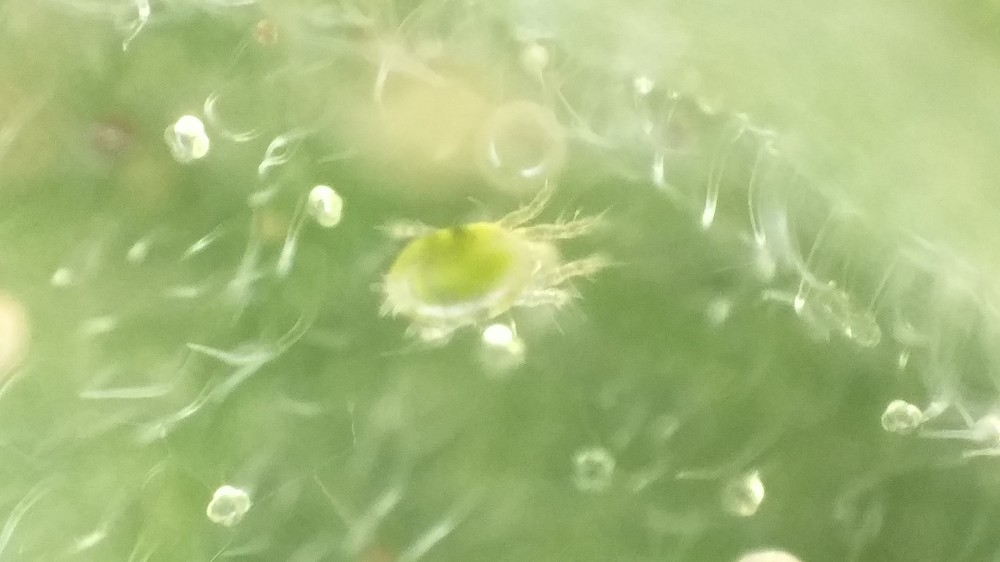Aracnido Rojo: (365, 182, 601, 339)
